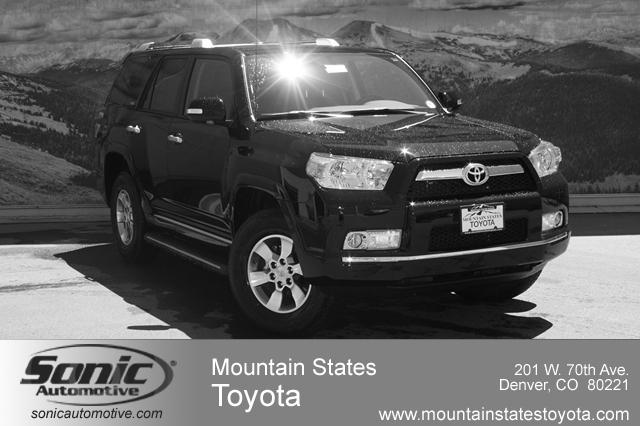car: (96, 36, 573, 334)
